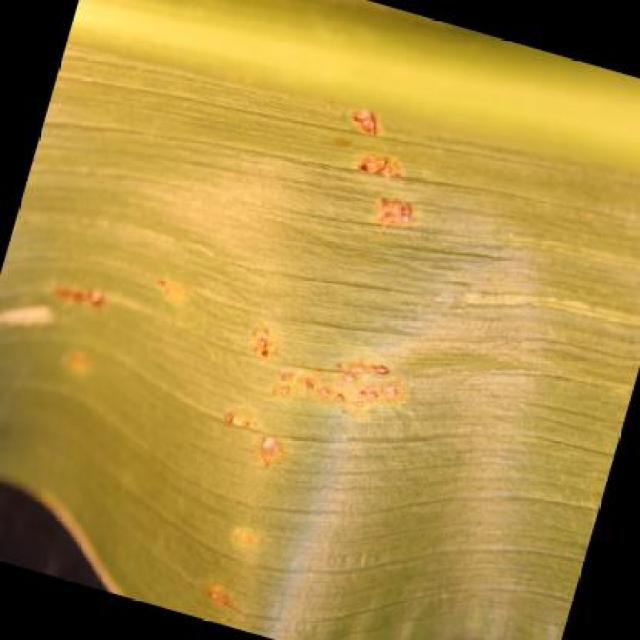Corn_Rust: (80, 84, 455, 578)
